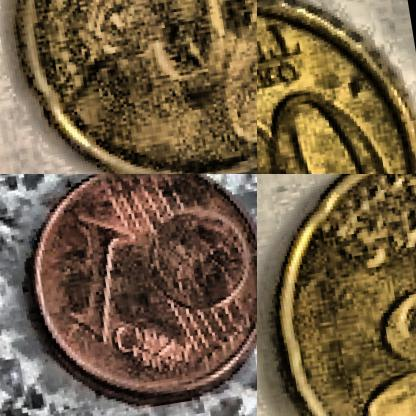coin: (13, 174, 256, 415), (0, 0, 256, 173), (257, 174, 415, 415), (257, 0, 415, 173)
